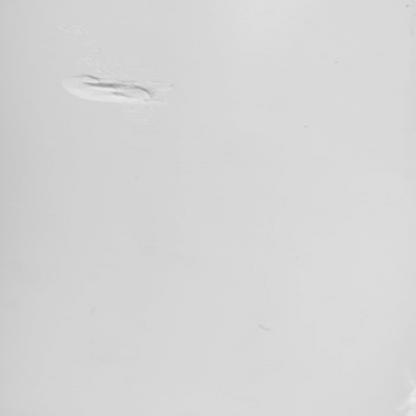sunshang: (65, 75, 163, 107)
